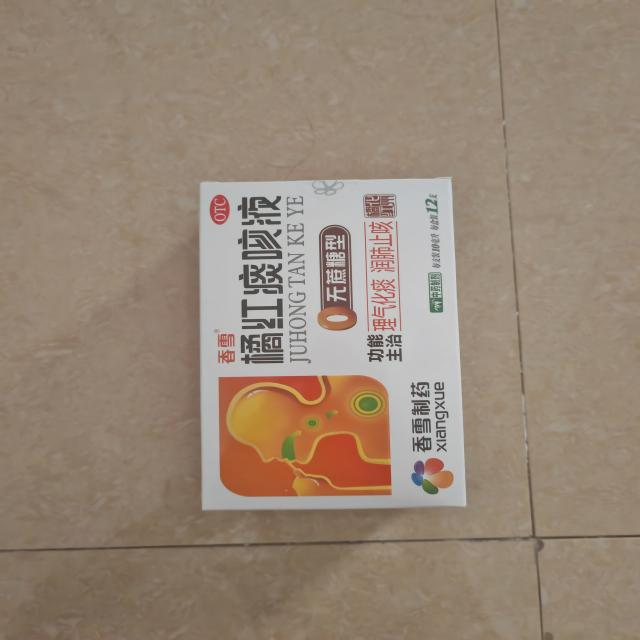box: (181, 172, 484, 521)
